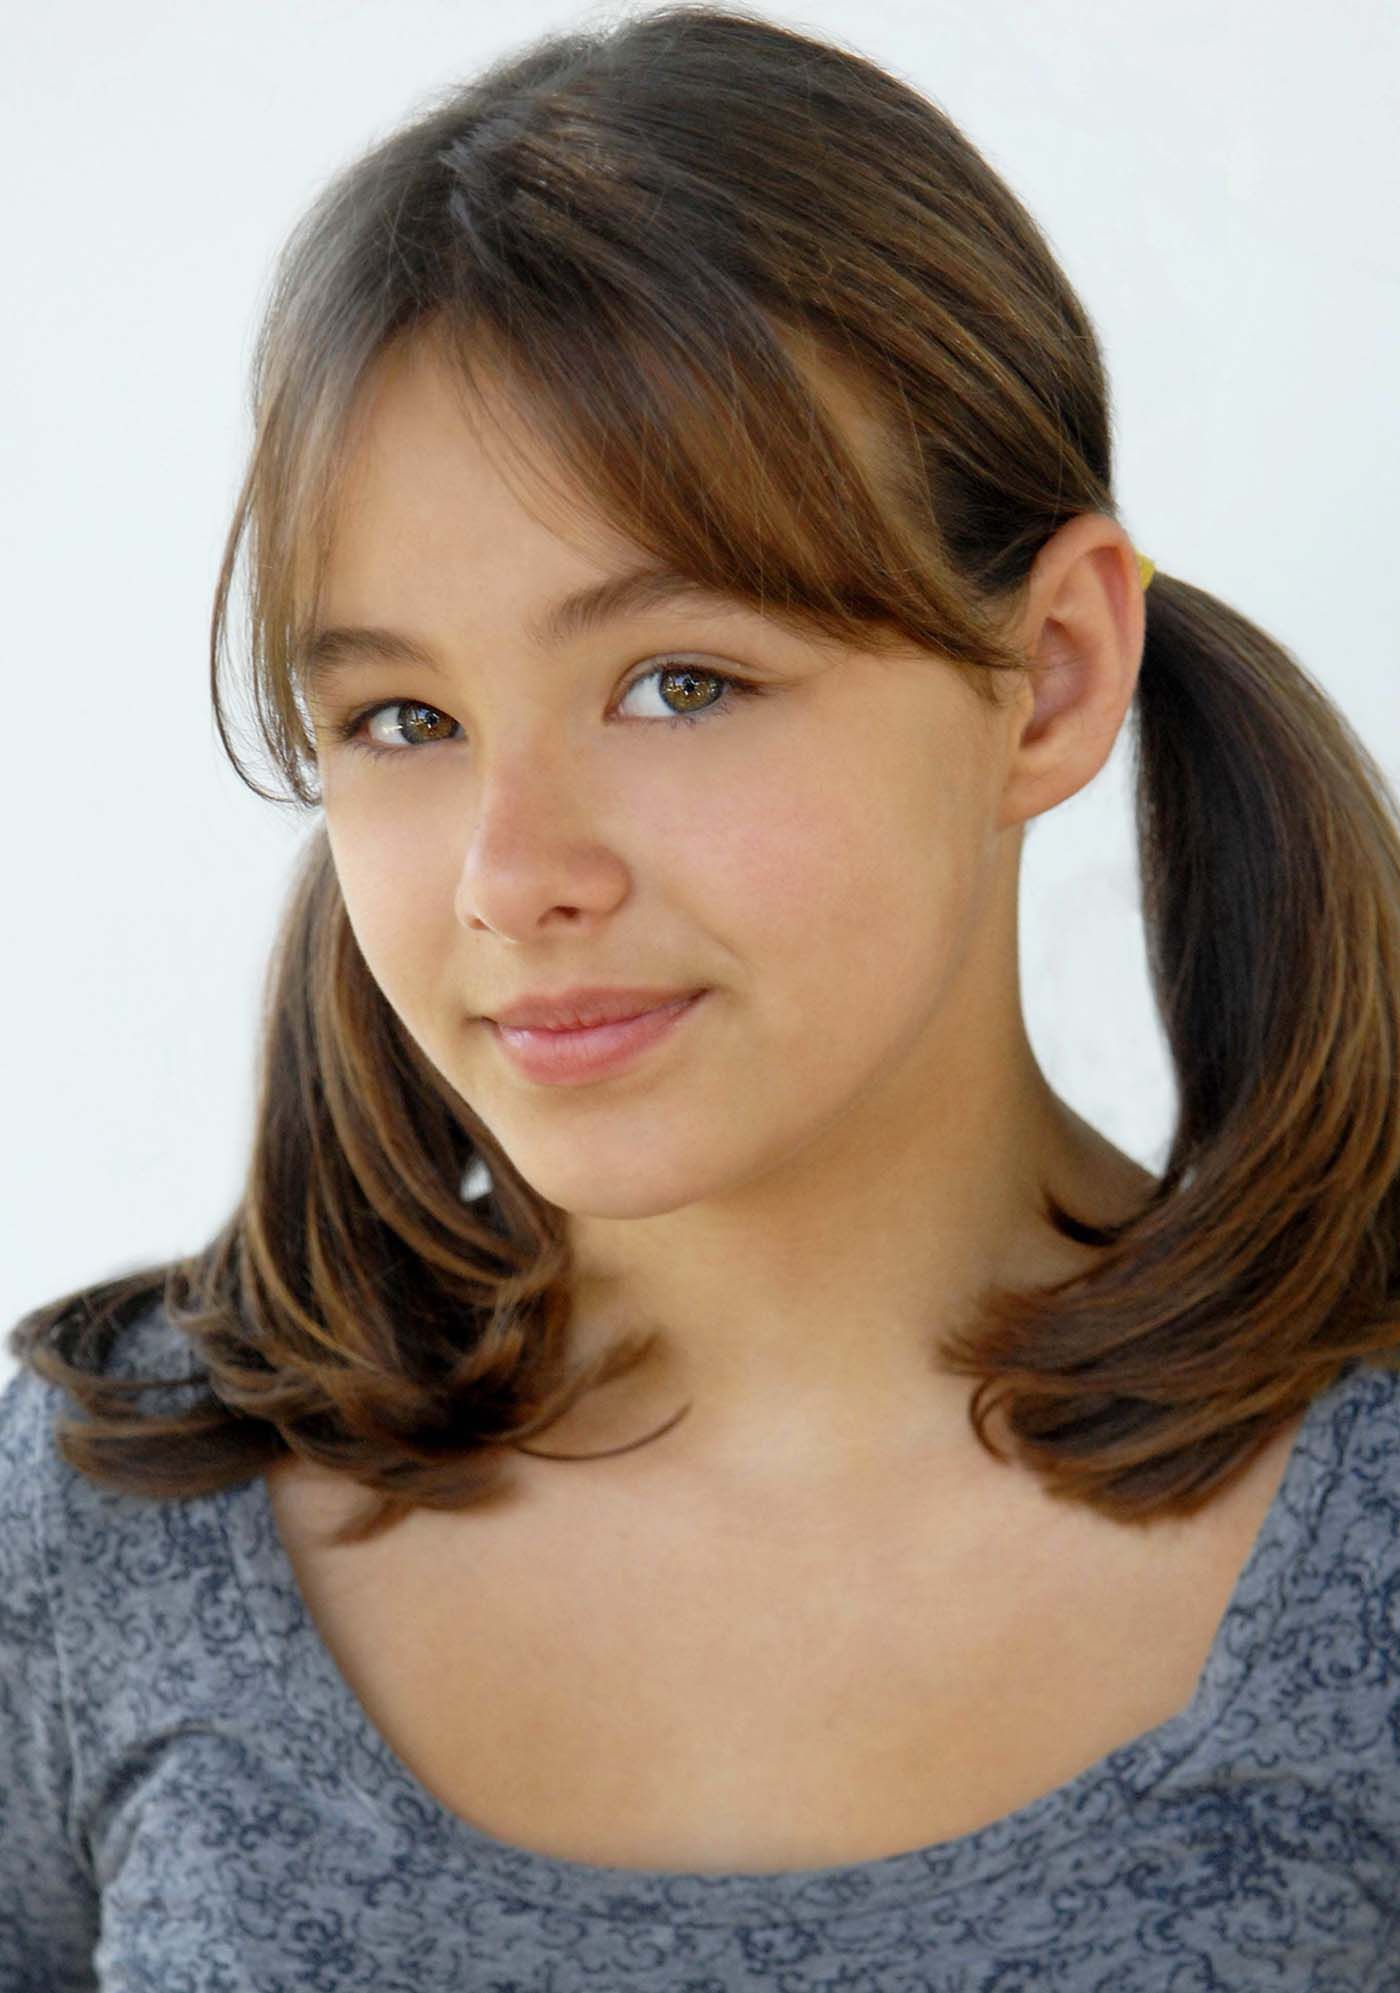without_mask: (332, 593, 823, 1117)
